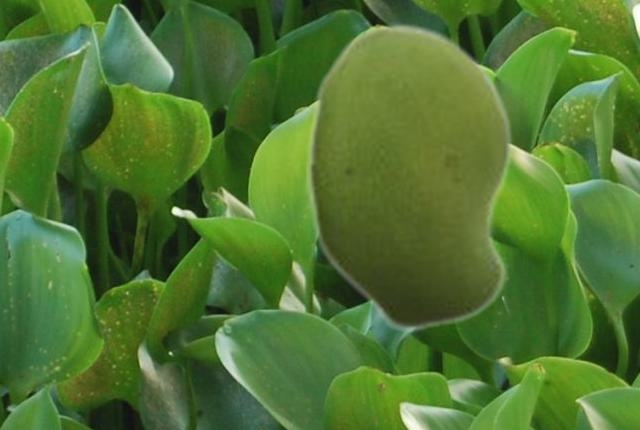green_mango: (306, 22, 513, 333)
